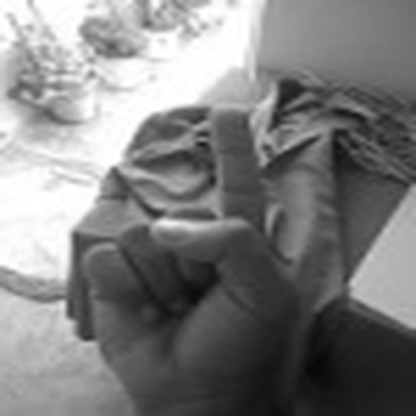d: (78, 95, 288, 416)
